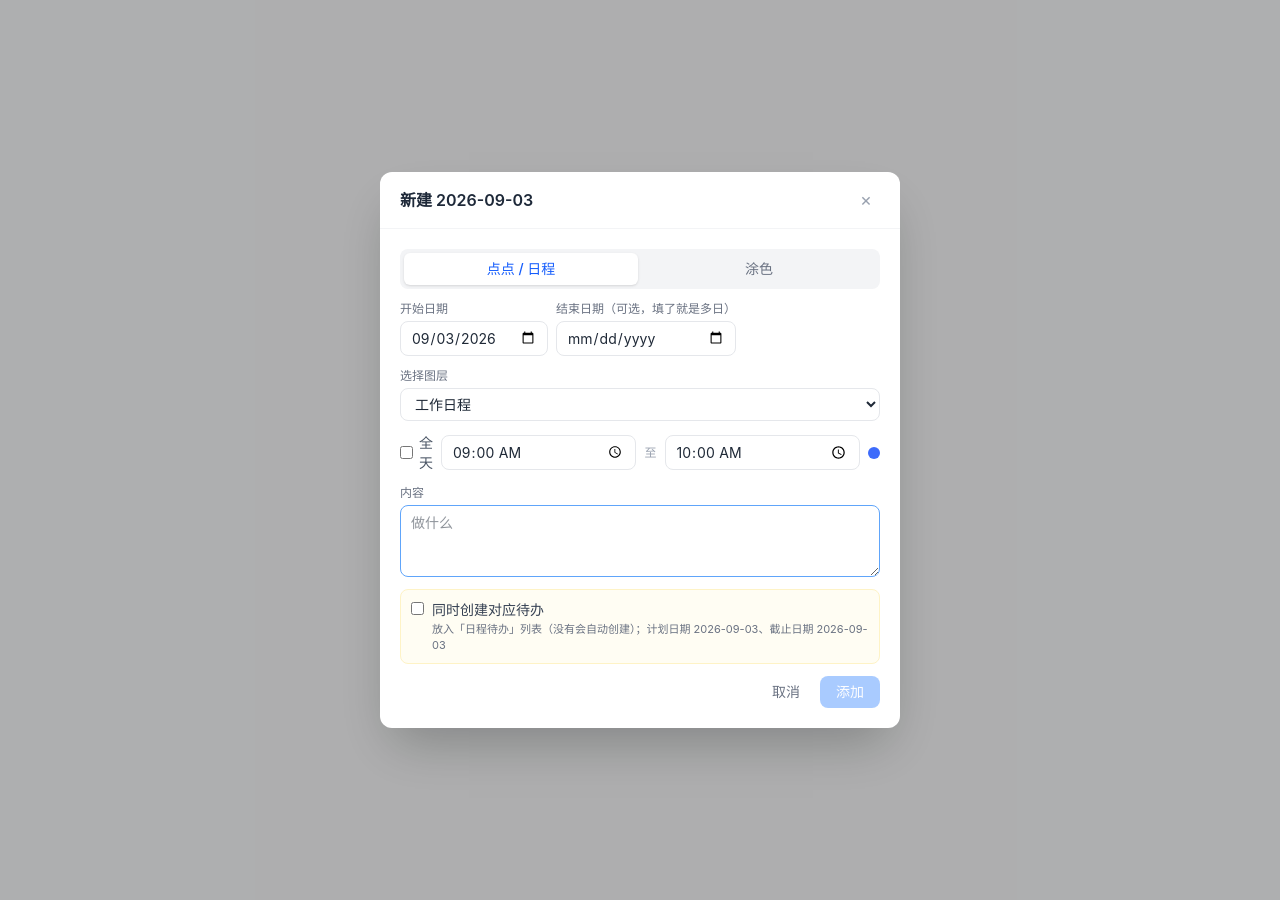
Test: DayEntryDialog 校验 › 10. 结束日期早于开始日期 → 保存按钮禁用
In the text box with placeholder "做什么": coordinates (640, 541) [400,505,880,577], type "倒挂测试"
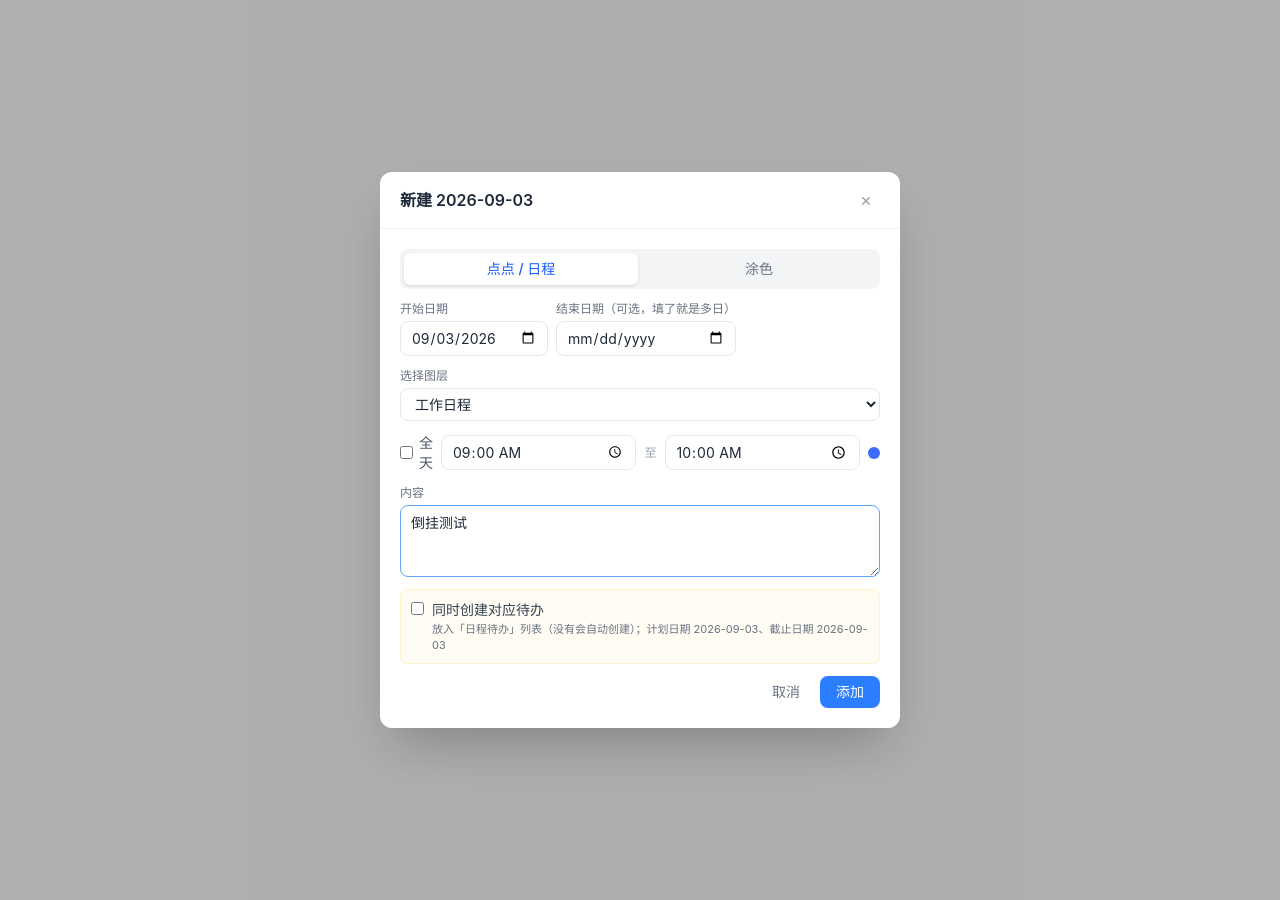
In the date field labelled "结束日期（可选，填了就是多日）": coordinates (646, 338) [556,321,736,356], type "2026-09-01"
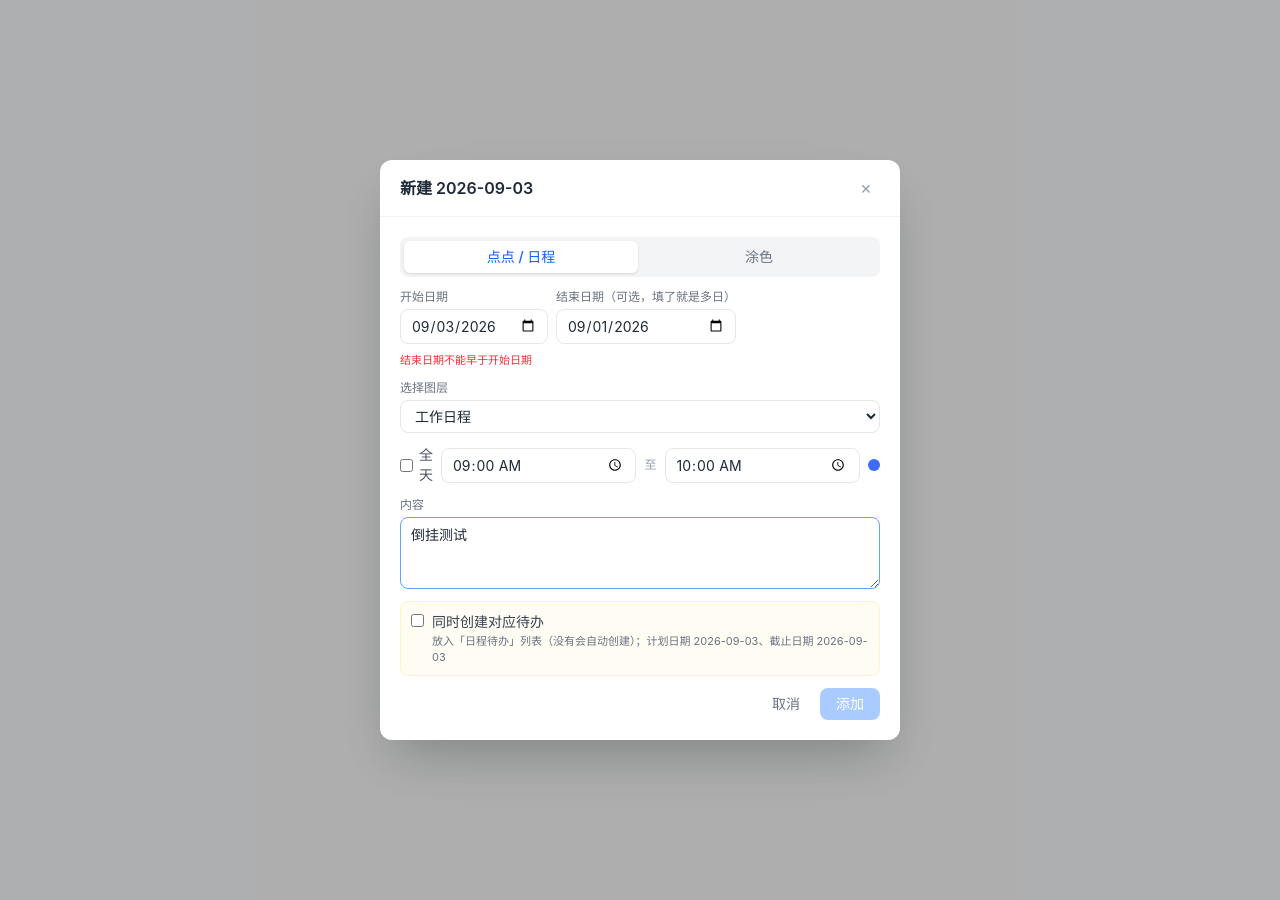
Expected: the text "结束日期不能早于开始日期" is shown, [400,352,532,366]
Expected: the button "添加" is disabled, [820,688,880,720]
